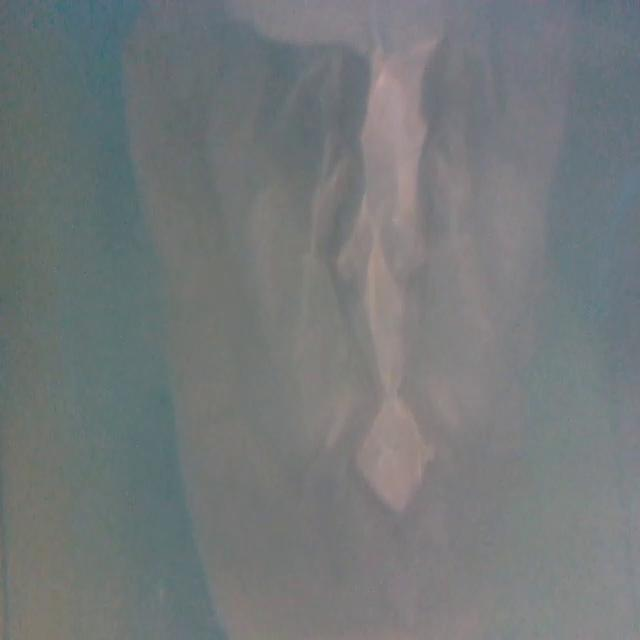plastic bags: (145, 0, 565, 637)
